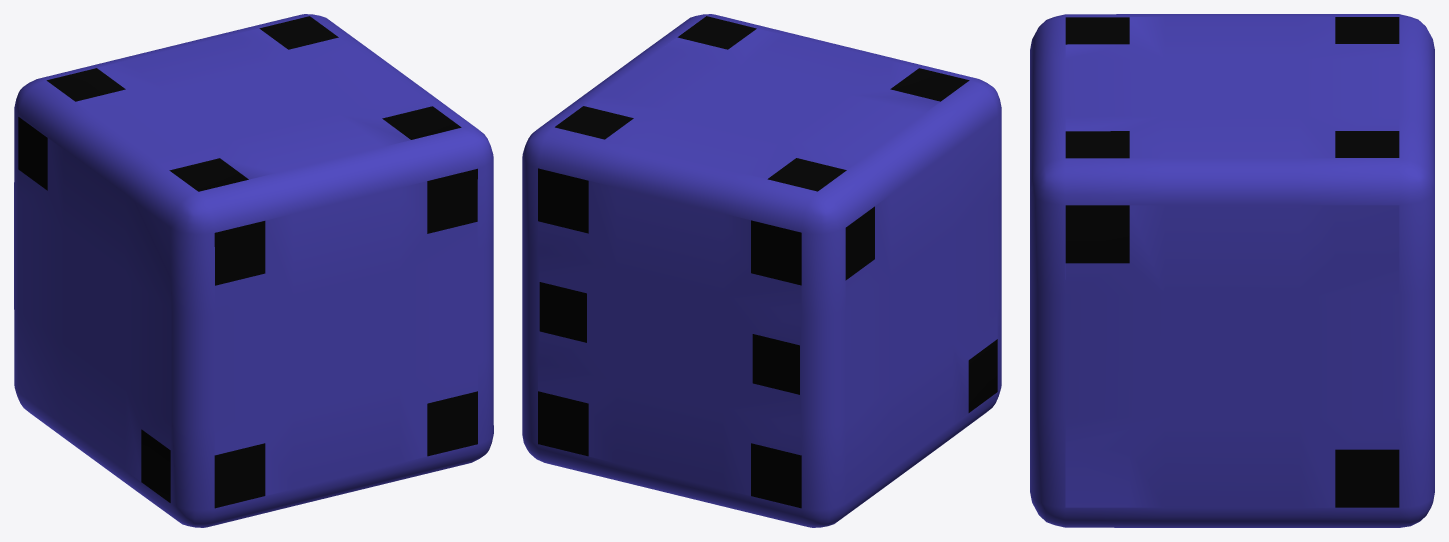
The model's file is EvenDice.fbx.
3 views of the same model, side by side, from view 1: azimuth 30°, elevation 25°; view 2: azimuth 150°, elevation 25°; view 3: azimuth 270°, elevation 25° (orthographic). The views are drawn at different scales.
Parts seen in each view (by area): view 1: Even; view 2: Even; view 3: Even.
Boxes of the visible parts, x1,y1,x2,y2 form: Even: [14, 14, 493, 527]; Even: [522, 14, 1001, 527]; Even: [1030, 14, 1434, 527].
Size of the model in its own units: 200 by 200 by 200.
